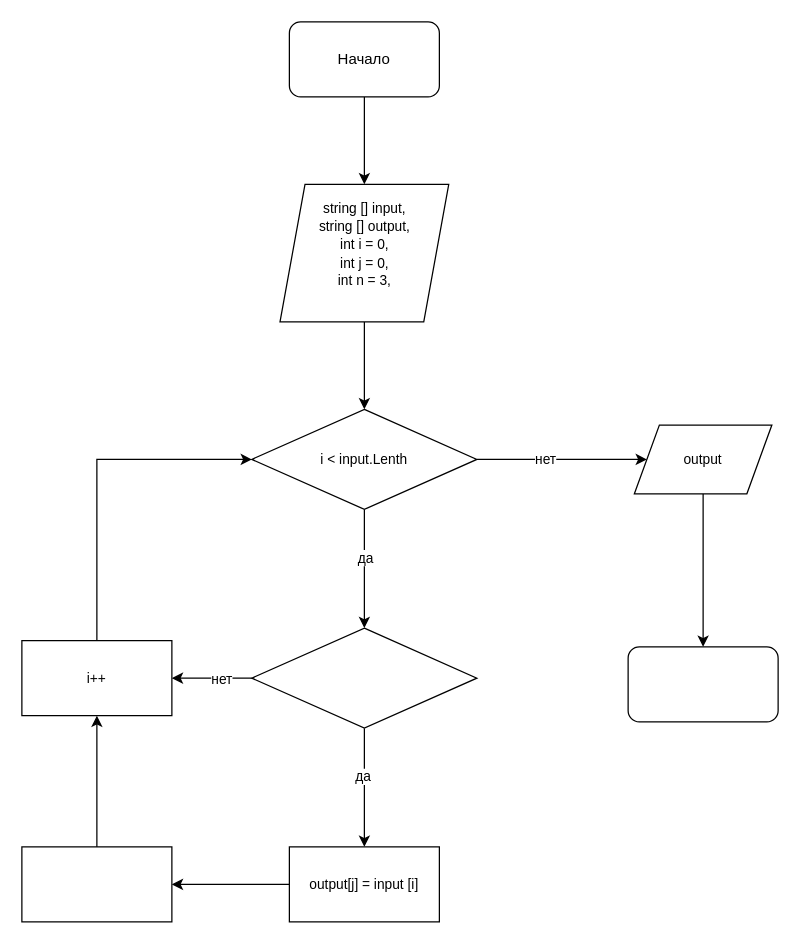
Some shapes in this 800 by 944 pixel diagram are drawn without their labels. The shapes that lost their labels are listed below. From the top down, each one's centre as x and y in pixels, then its label:
the point at 364,677: input [i].Lenth <= n
the point at 702,684: конец
the point at 96,884: j++
